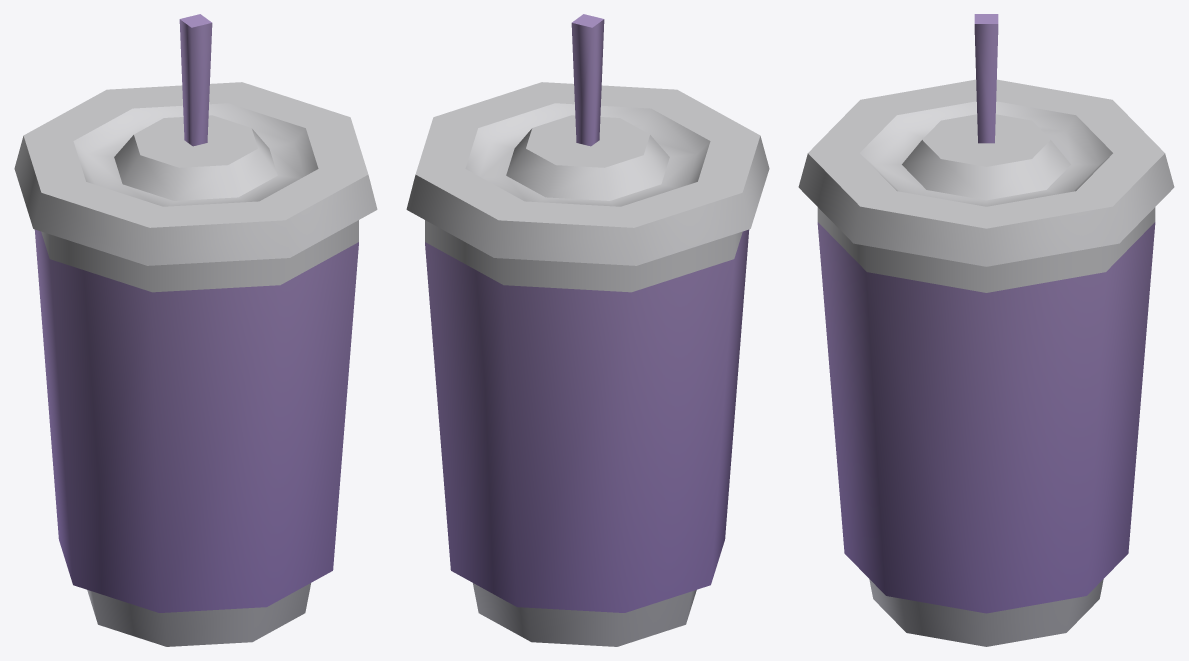
Rendered from soda.glb.
3 renders of one model, left to right at view 1: azimuth 30°, elevation 25°; view 2: azimuth 150°, elevation 25°; view 3: azimuth 270°, elevation 25°, orthographic.
Visible parts, largest first — view 1: soda; view 2: soda; view 3: soda.
Boxes of the visible parts, left/top/right/bottom form: soda: left=14, top=14, right=377, bottom=646; soda: left=406, top=14, right=769, bottom=646; soda: left=798, top=14, right=1174, bottom=646.
Bounding box in the file's own units: 0.2541 × 0.4324 × 0.2541.
